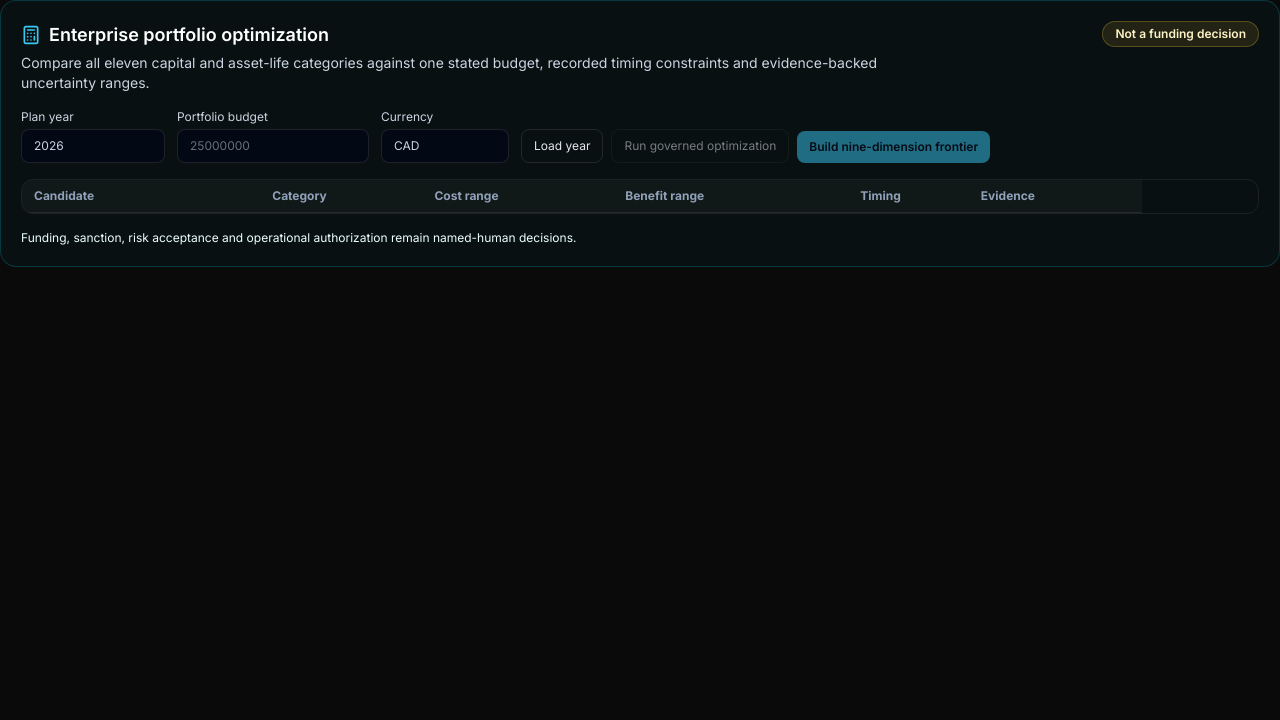
it: EnterprisePortfolioOptimizationPanel › shows transparent selected and deferred results and routes only a recommendation
Expected: the heading "Enterprise portfolio optimization" is shown, [21,24,329,45]
In the field labelled "Portfolio budget": x=273, y=146 [177,129,369,163], type "1000000"
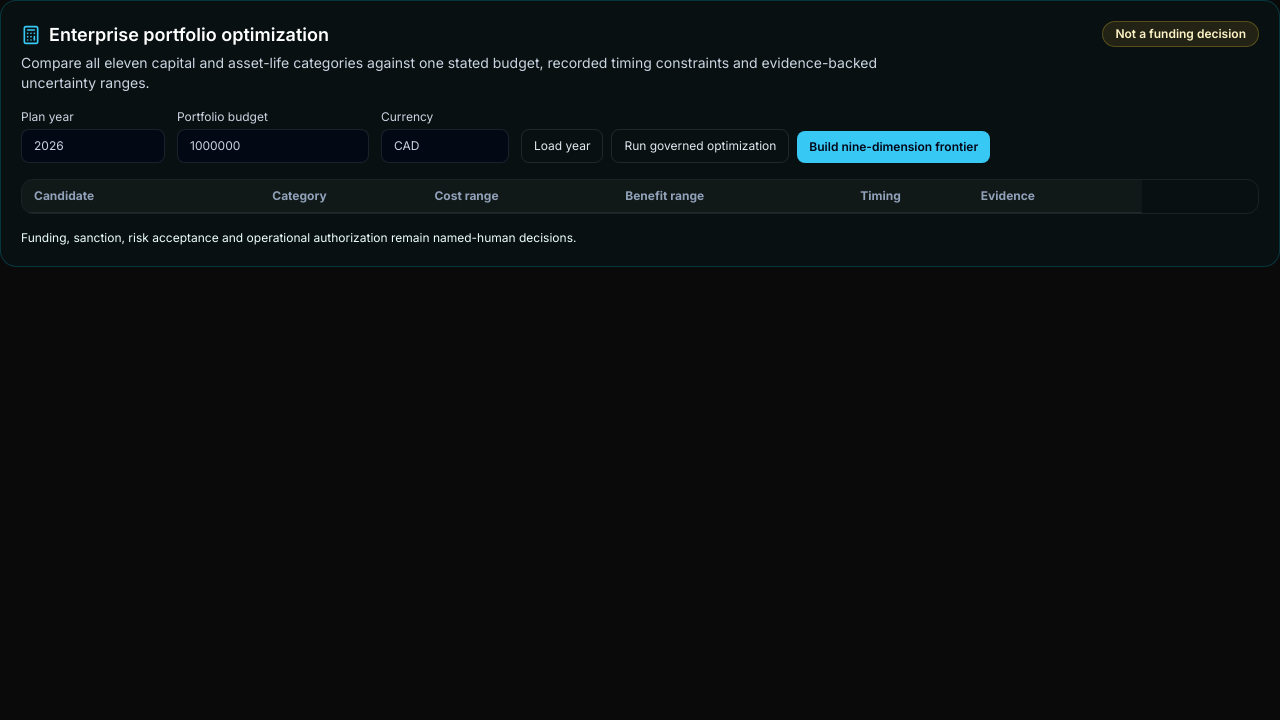
Click the button "Run governed optimization": x=700, y=146 [611,129,789,163]
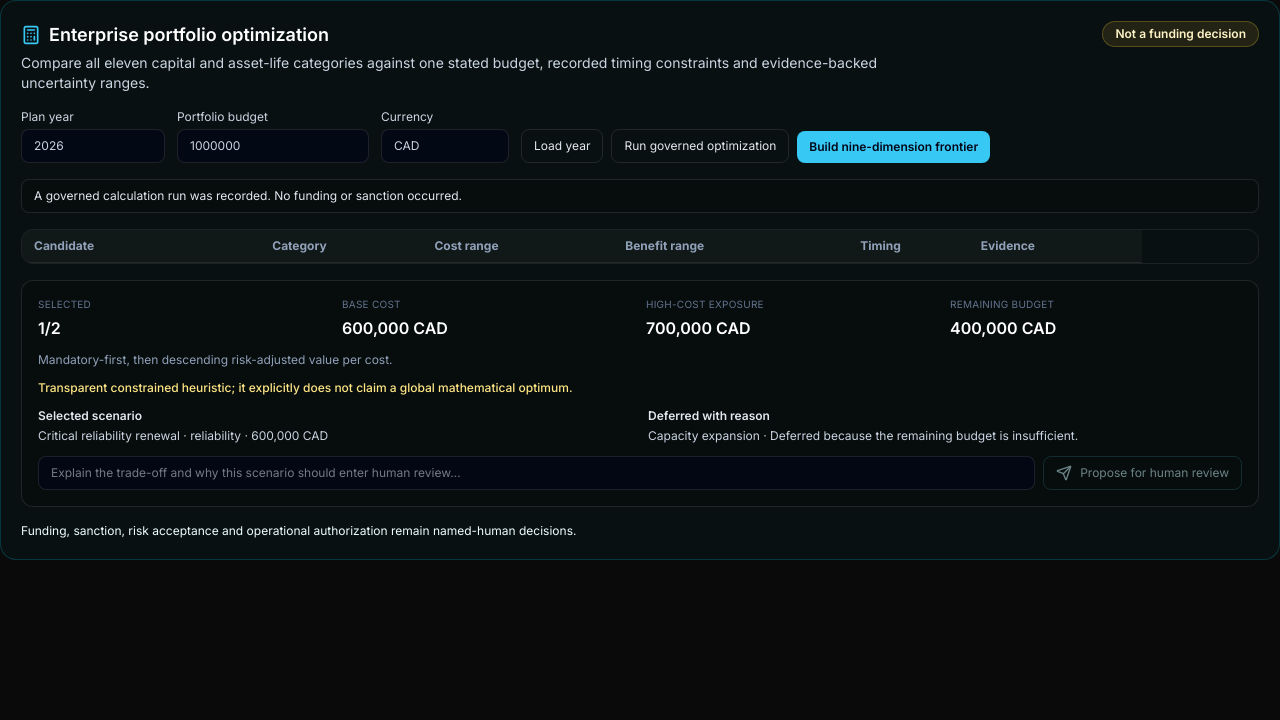
Now the text "does not claim a global mathematical optimum" is shown, box [38,380,572,395]
Now the list item "Critical reliability renewal · reliability · 600,000 CAD" is shown, box [38,428,328,443]
Now the list item "Capacity expansion" is shown, box [648,428,1078,443]
Replace the text in the field with placeholder "Explain the trade-off" with "Advance the reliability renewal because its verified risk reduction is highest.": x=537, y=473 [38,456,1035,490]
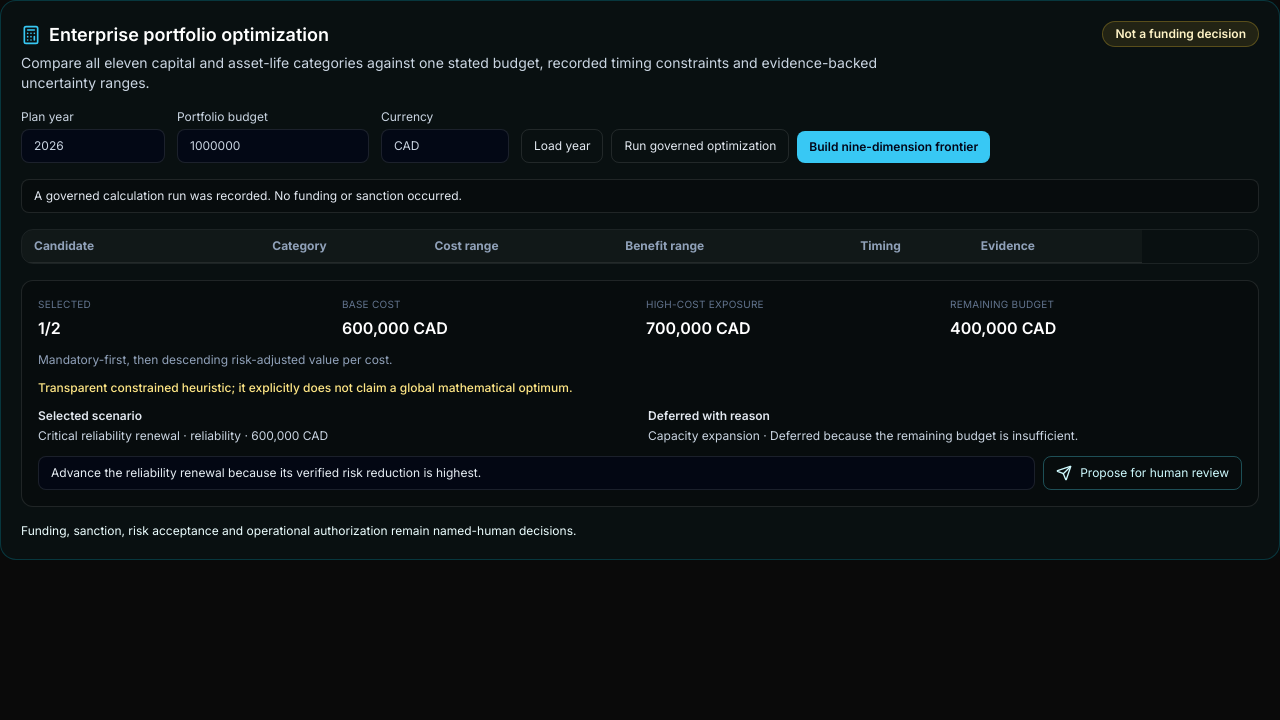
Click the button "Propose for human review": x=1143, y=473 [1043,456,1242,490]
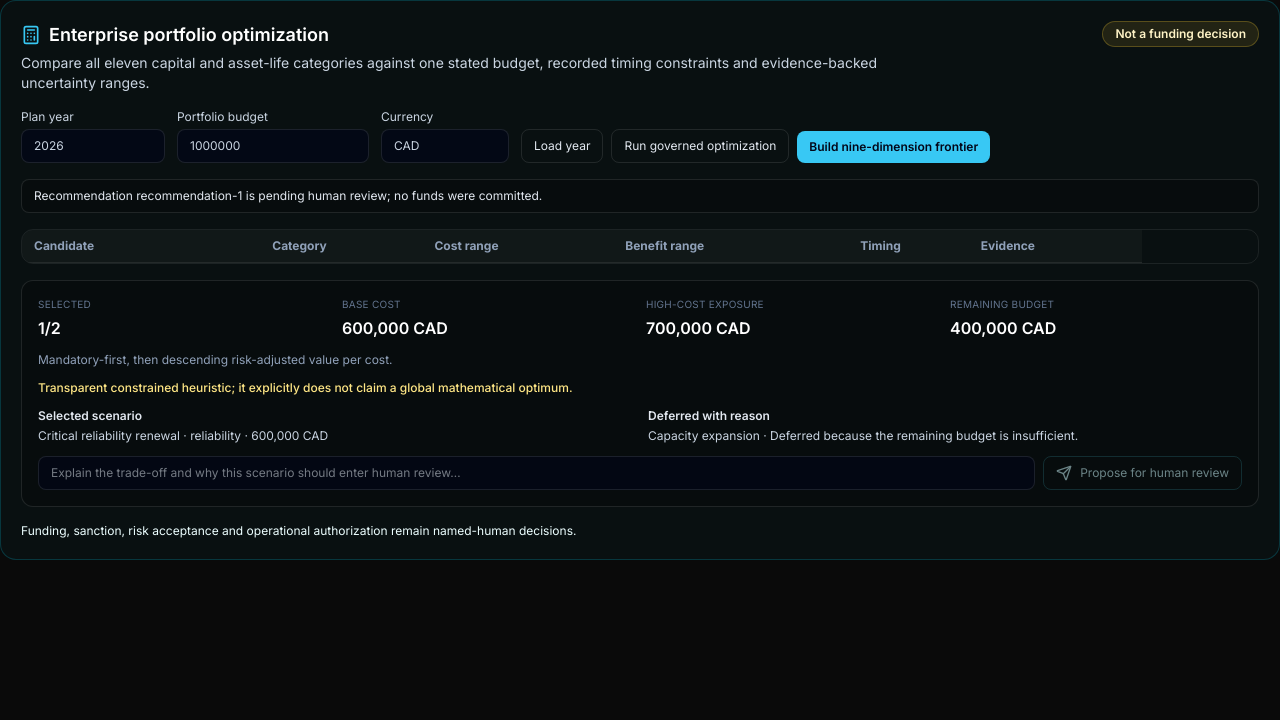
Now the text "pending human review; no funds were committed" is shown, box [34,188,542,203]
